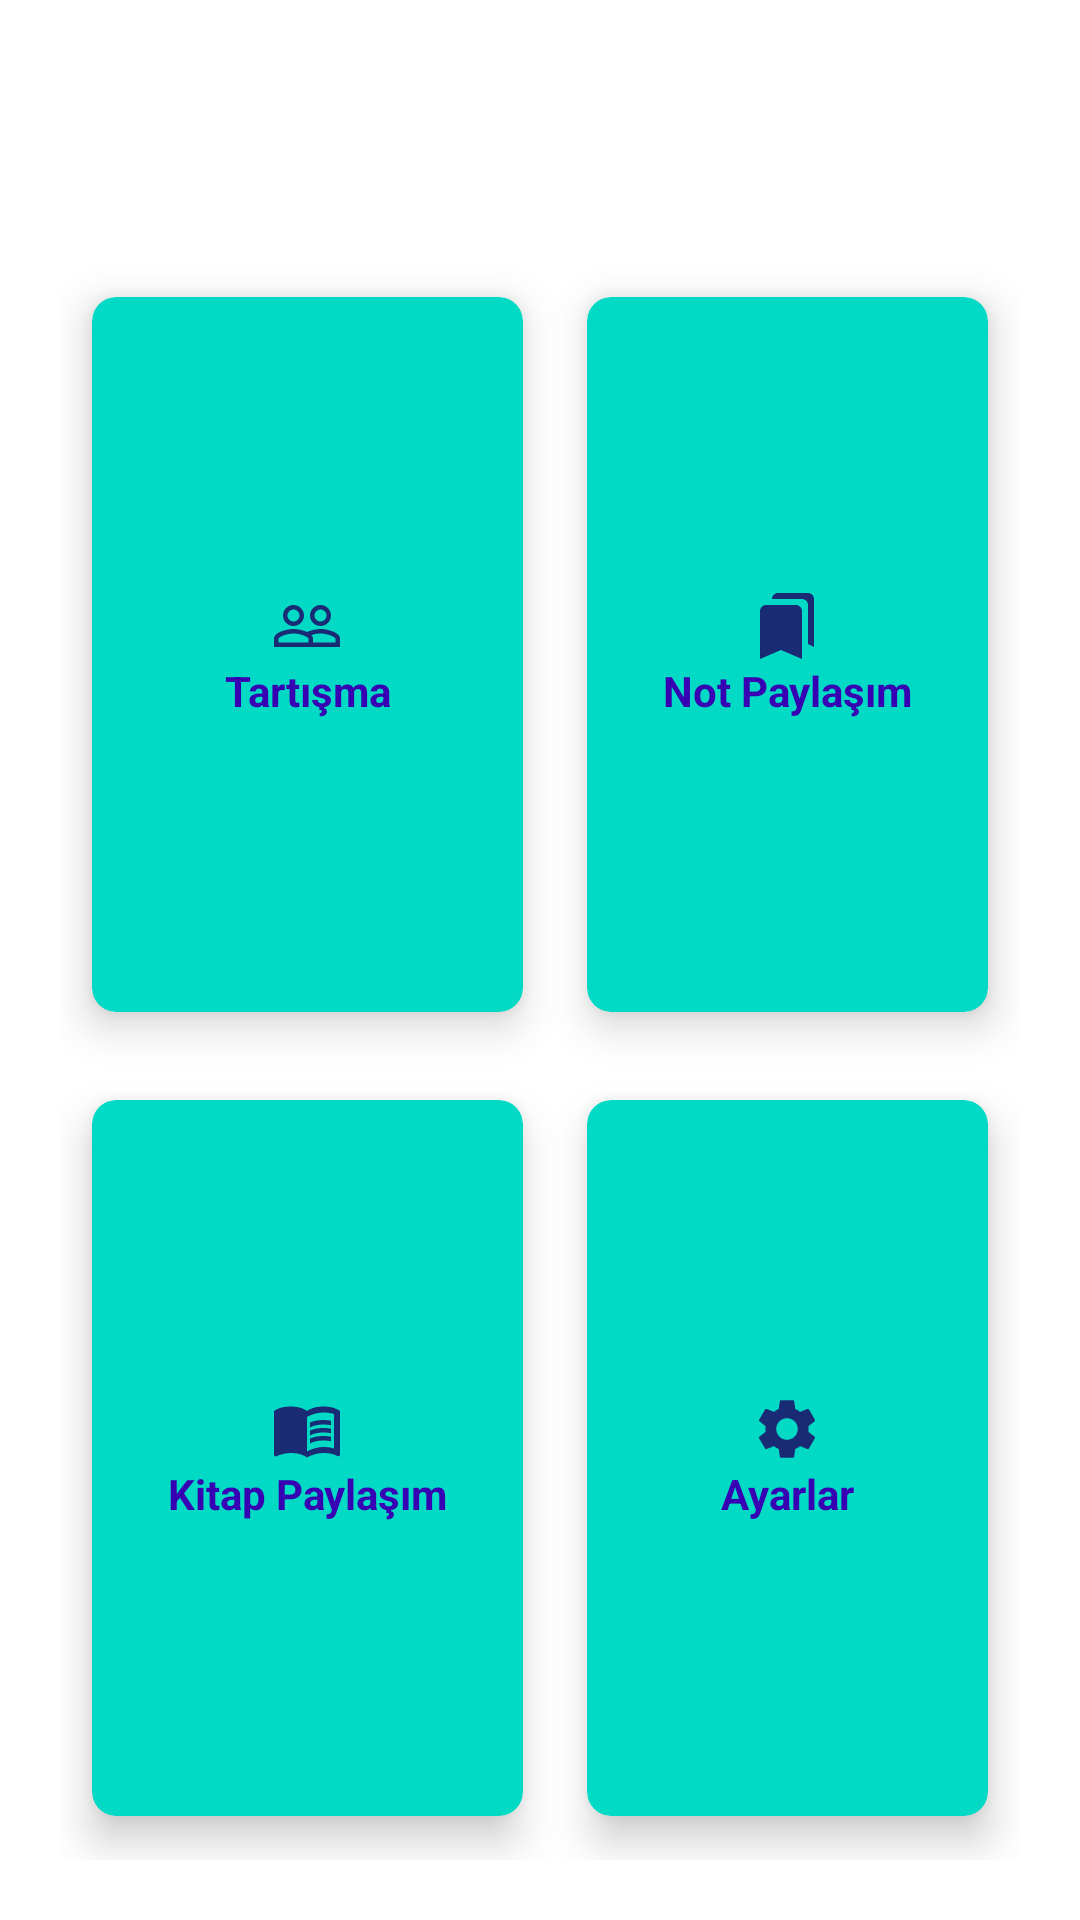

Where icons sit on this 1080*1920 app screen, as Rect(x1, y1, x2, y2):
book: Rect(274, 1406, 340, 1458)
bookmarks: Rect(760, 593, 814, 659)
people: Rect(274, 605, 340, 647)
